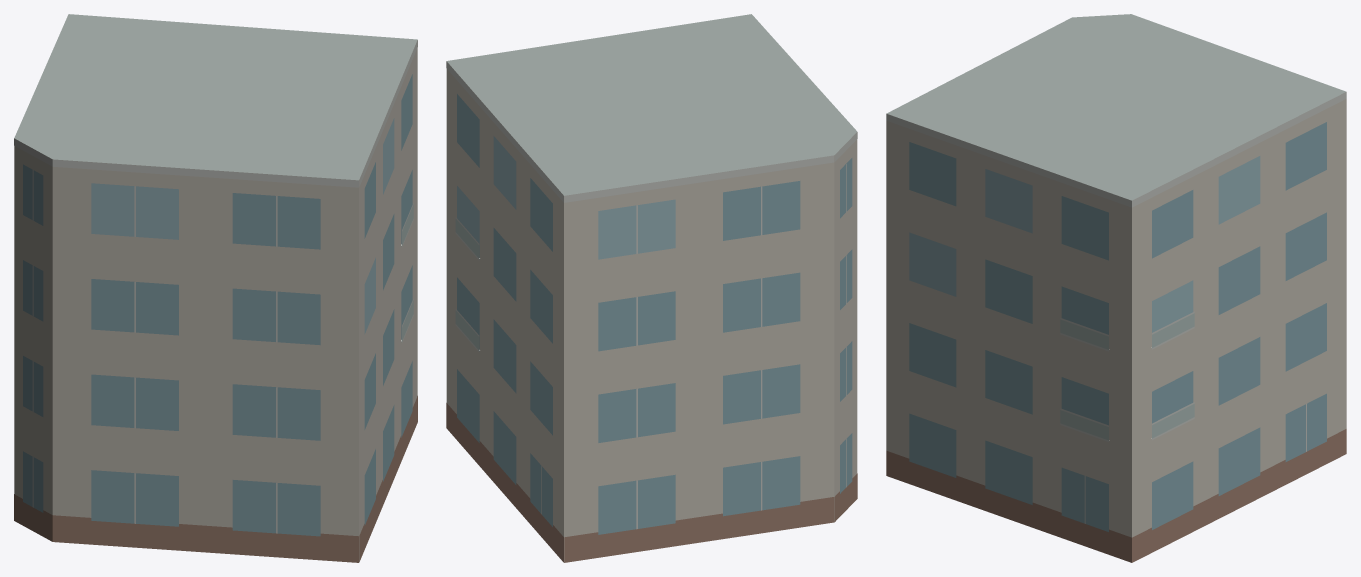
The model's file is survey-upis-32971597.glb.
3 views of the same model, side by side, from view 1: azimuth 30°, elevation 25°; view 2: azimuth 150°, elevation 25°; view 3: azimuth 270°, elevation 25° (orthographic). The views are drawn at different scales.
Parts seen in each view (by area): view 1: survey-upis-32971597.tmp; view 2: survey-upis-32971597.tmp; view 3: survey-upis-32971597.tmp.
Boxes of the visible parts, x1,y1,x2,y2 form: survey-upis-32971597.tmp: (14,14,417,562); survey-upis-32971597.tmp: (446,14,857,562); survey-upis-32971597.tmp: (886,14,1346,562).
Bounding box in the file's own units: 13.96 × 12.62 × 14.54.
